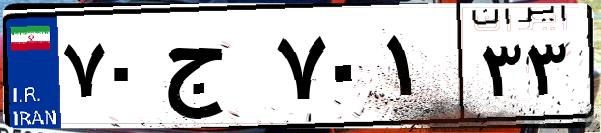0: (330, 28, 385, 110), (110, 28, 158, 98)
1: (385, 28, 445, 110)
3: (475, 38, 525, 113), (525, 38, 570, 115)
7: (270, 28, 330, 110), (57, 26, 110, 100)
ج: (158, 20, 270, 120)
